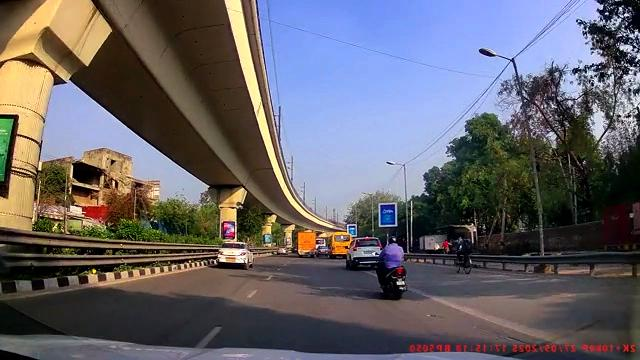motorcycle_with_helmet: (374, 234, 411, 301)
